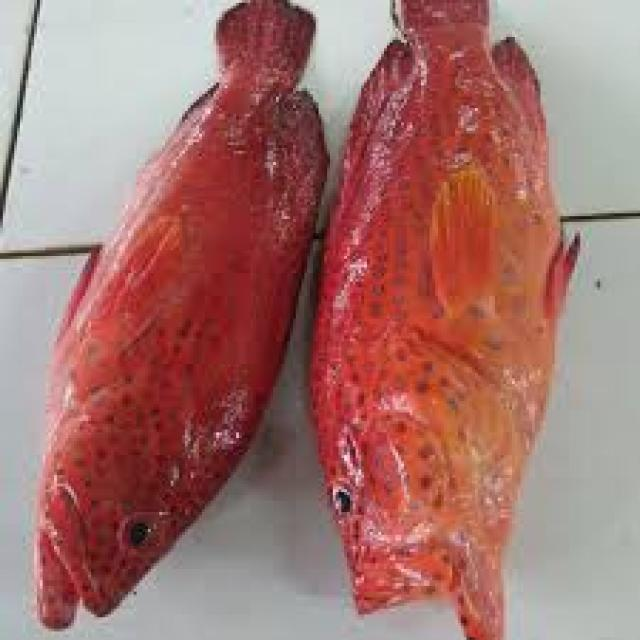Plectropomus-leopardus: (41, 33, 293, 628), (338, 0, 544, 638)
